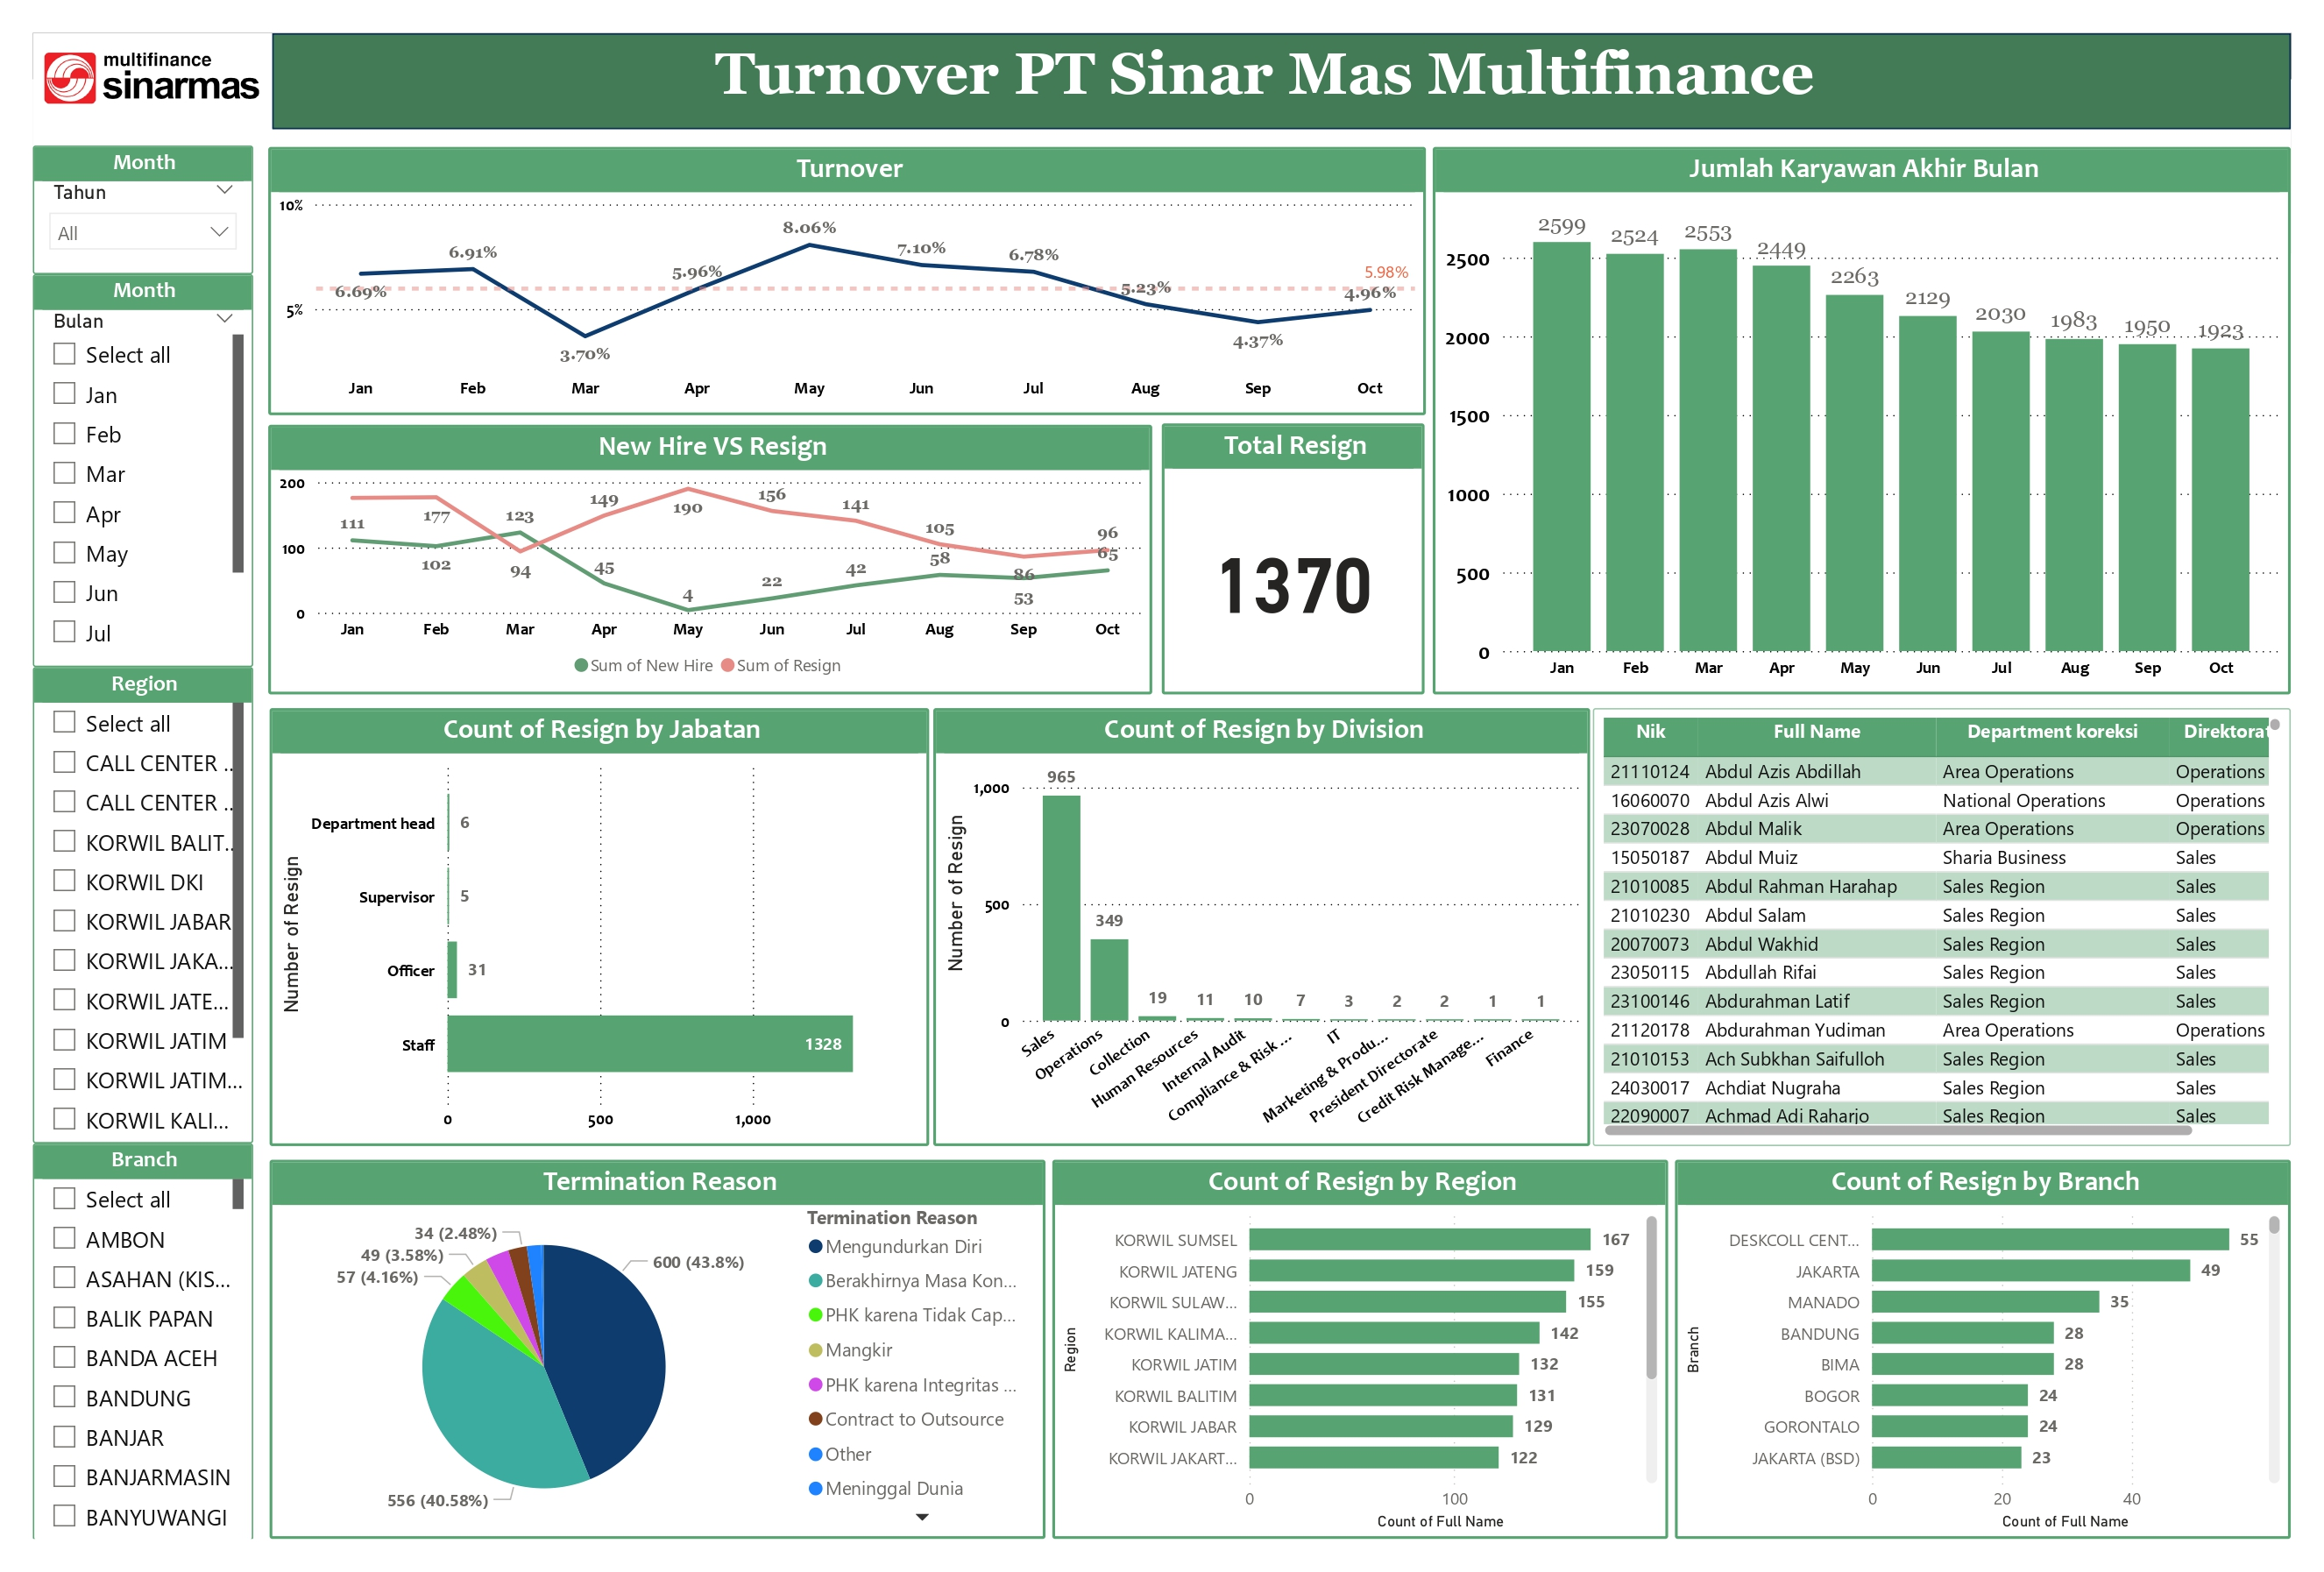

Layout of this report page (visuals, bound fields, positions):
{"tool":"powerbi","page":{"name":"Page 1","canvas":[1650,1100],"ordinal":0},"visuals":[{"type":"shape","box":[175,0,1475,70],"z":0},{"type":"image","box":[0,0,173.9,65.8],"z":1000},{"type":"clusteredBarChart","title":"Count of Resign by Jabatan","fields":{"Y":["CountNonNull(Data Resign.Full Name)"],"Category":["Jabatan.Jabatan"]},"box":[172.5,492.5,482.5,320],"z":2000},{"type":"clusteredColumnChart","title":"Count of Resign by Division","fields":{"Category":["Data Resign.Division koreksi"],"Y":["CountNonNull(Data Resign.Full Name)"]},"box":[657.5,492.5,480,320],"z":3000},{"type":"pieChart","title":"Termination Reason","fields":{"Category":["Data Resign.Resign Reason"],"Y":["CountNonNull(Data Resign.Full Name)"]},"box":[172.5,822.5,567.5,277.5],"z":4000},{"type":"tableEx","fields":{"Values":["Data Resign.Nik","Data Resign.Full Name","Data Resign.Department koreksi","Data Resign.Direktorat koreksi"]},"box":[1140,492.5,510,320],"z":5000},{"type":"card","title":"Total Resign","fields":{"Values":["CountNonNull(Data Resign.Full Name)"]},"box":[825,285,191.7,198.3],"z":6000},{"type":"slicer","title":"Region","fields":{"Values":["Data Resign.Region"]},"box":[0,462.6,160.8,348.8],"z":7000},{"type":"slicer","title":"Month","fields":{"Values":["All.Bulan"]},"box":[0,175.6,160.8,287],"z":8000},{"type":"slicer","title":"Branch","fields":{"Values":["Data Resign.Branch"]},"box":[0,811.4,160.8,289.4],"z":9000},{"type":"lineChart","title":"Turnover","fields":{"Category":["All.Bulan.Variation.Date Hierarchy.Month"],"Y":["Sum(All.Turn Over)"]},"box":[171.9,82.6,846.2,196.5],"z":10000},{"type":"lineChart","title":"New Hire VS Resign","fields":{"Category":["All.Bulan.Variation.Date Hierarchy.Month"],"Y":["Sum(All.New Hire)","Sum(All.Resign)"]},"box":[172.2,285.6,645.6,197.8],"z":11000},{"type":"clusteredColumnChart","title":"Jumlah Karyawan Akhir Bulan","fields":{"Category":["All.Bulan.Variation.Date Hierarchy.Month"],"Y":["Sum(All.HC AKHIR BULAN)"]},"box":[1022.9,82.9,627.1,400],"z":12000},{"type":"textbox","box":[176,0,1448,70],"z":13000},{"type":"slicer","title":"Month","fields":{"Values":["All.Tahun"]},"box":[0,81.6,160.8,94],"z":14000},{"type":"clusteredBarChart","title":"Count of Resign by Region","fields":{"Category":["Data Resign.Region"],"Y":["CountNonNull(Data Resign.Full Name)"]},"box":[745,822.5,450,277.5],"z":15000},{"type":"clusteredBarChart","title":"Count of Resign by Branch","fields":{"Category":["Data Resign.Branch"],"Y":["CountNonNull(Data Resign.Full Name)"]},"box":[1200,822.5,450,277.5],"z":16000}]}

Visuals, with their boxes in screenshot pixels (x1, y1, x2, y2):
shape: (x1=249, y1=25, x2=2298, y2=122)
image: (x1=6, y1=25, x2=248, y2=116)
"Count of Resign by Jabatan" clusteredBarChart: (x1=245, y1=708, x2=916, y2=1152)
"Count of Resign by Division" clusteredColumnChart: (x1=919, y1=708, x2=1586, y2=1152)
"Termination Reason" pieChart: (x1=245, y1=1166, x2=1034, y2=1552)
tableEx - Data Resign.Nik x Data Resign.Full Name: (x1=1590, y1=708, x2=2298, y2=1152)
"Total Resign" card: (x1=1152, y1=420, x2=1418, y2=696)
"Region" slicer: (x1=6, y1=667, x2=230, y2=1151)
"Month" slicer: (x1=6, y1=268, x2=230, y2=667)
"Branch" slicer: (x1=6, y1=1151, x2=230, y2=1553)
"Turnover" lineChart: (x1=244, y1=139, x2=1421, y2=412)
"New Hire VS Resign" lineChart: (x1=245, y1=421, x2=1142, y2=696)
"Jumlah Karyawan Akhir Bulan" clusteredColumnChart: (x1=1427, y1=139, x2=2298, y2=695)
textbox: (x1=251, y1=25, x2=2262, y2=122)
"Month" slicer: (x1=6, y1=138, x2=230, y2=268)
"Count of Resign by Region" clusteredBarChart: (x1=1041, y1=1166, x2=1666, y2=1552)
"Count of Resign by Branch" clusteredBarChart: (x1=1673, y1=1166, x2=2298, y2=1552)
